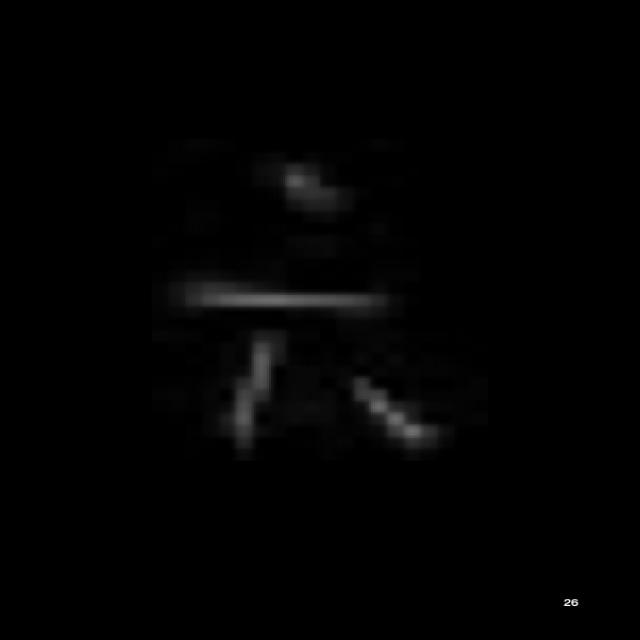6 -six-: (183, 158, 439, 454)
